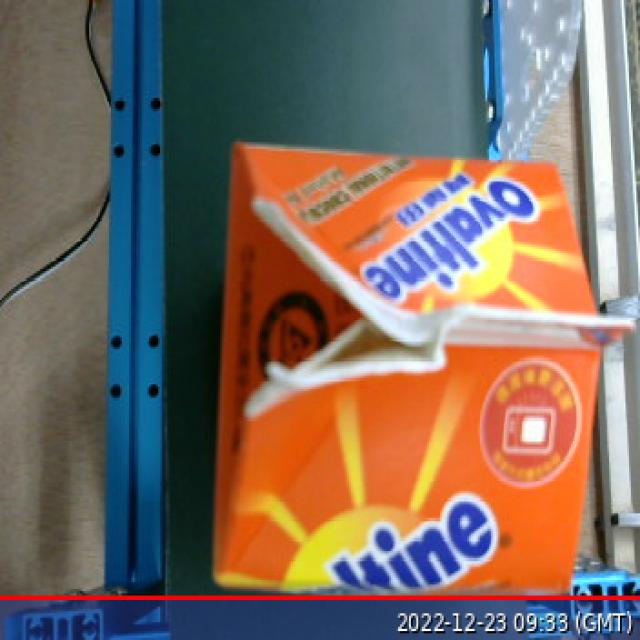non_white_jug: (205, 119, 629, 599)
